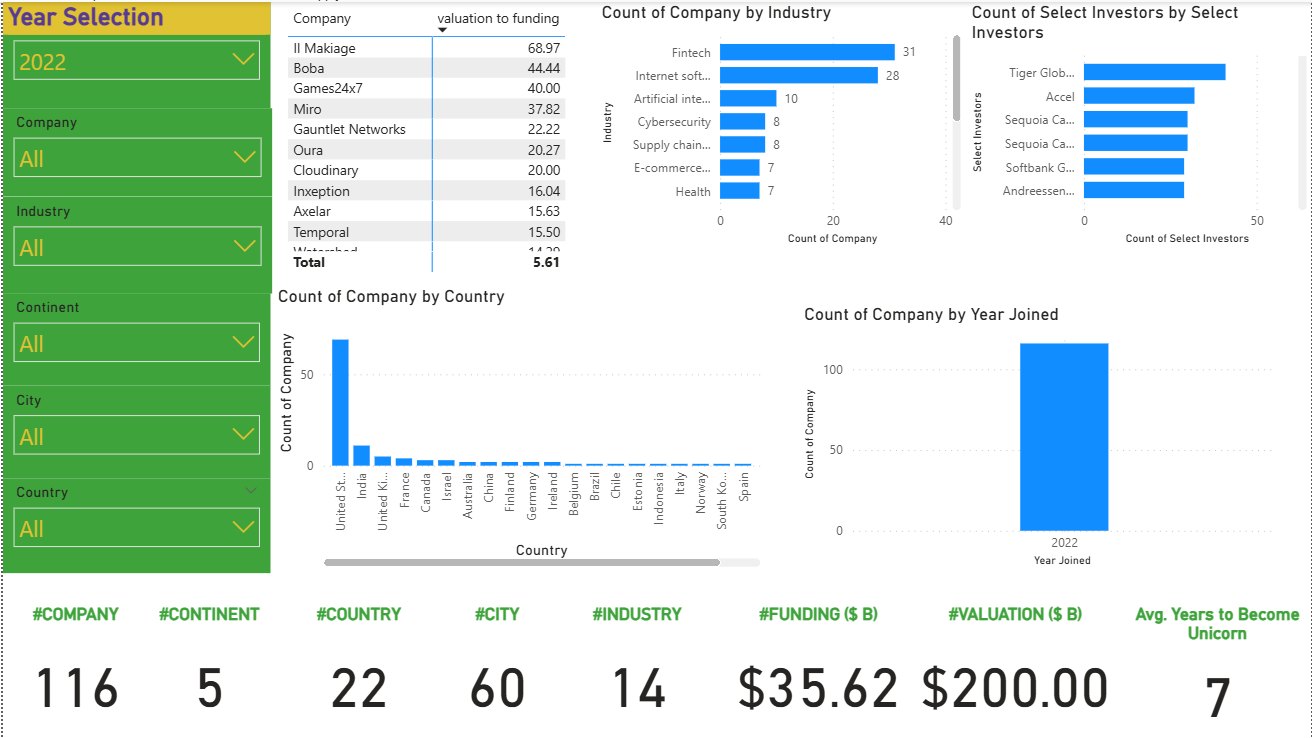

The page's visual inventory and layout, read from the dashboard file:
{"tool":"powerbi","page":{"name":"Page 1","canvas":[1280,720],"ordinal":0},"visuals":[{"type":"slicer","title":"Year Selection","fields":{"Values":["Unicorn_Companies.Year Joined"]},"box":[0,0,261.6,103.9],"z":0},{"type":"slicer","fields":{"Values":["Unicorn_Companies.Continent"]},"box":[0,284.8,261.6,90.5],"z":1000},{"type":"slicer","fields":{"Values":["Unicorn_Companies.Country"]},"box":[0,465.7,261.6,92.9],"z":2000},{"type":"slicer","fields":{"Values":["Unicorn_Companies.Company"]},"box":[0,103.9,262.8,86.8],"z":3000},{"type":"slicer","fields":{"Values":["Unicorn_Companies.Industry"]},"box":[0,190.7,262.8,94.1],"z":4000},{"type":"slicer","fields":{"Values":["Unicorn_Companies.City"]},"box":[0,375.3,261.6,90.5],"z":5000},{"type":"card","title":"Avg. Years to Become Unicorn","fields":{"Values":["Unicorn_Companies.avg years to become unicorn"]},"box":[1095,587.5,185,132.5],"z":6000},{"type":"pivotTable","fields":{"Rows":["Unicorn_Companies.Company"],"Values":["Unicorn_Companies.valuation to funding"]},"box":[273.8,0,346.2,268.8],"z":7000},{"type":"clusteredColumnChart","fields":{"Category":["Unicorn_Companies.Country"],"Y":["CountNonNull(Unicorn_Companies.Company)"]},"box":[264,277.5,481.6,279.9],"z":8000},{"type":"columnChart","fields":{"Category":["Unicorn_Companies.Year Joined"],"Y":["CountNonNull(Unicorn_Companies.Company)"]},"box":[778.8,295,467.5,262.5],"z":9000},{"type":"card","title":"#COMPANY","fields":{"Values":["Count(Unicorn_Companies.Company)"]},"box":[1.2,587.5,140,132.5],"z":10000},{"type":"card","title":"#CONTINENT","fields":{"Values":["Count(Unicorn_Companies.Continent)"]},"box":[131.2,587.5,142.5,132.5],"z":11000},{"type":"card","title":"#COUNTRY","fields":{"Values":["Count(Unicorn_Companies.Country)"]},"box":[273.8,587.5,148.8,132.5],"z":12000},{"type":"card","title":"#CITY","fields":{"Values":["Count(Unicorn_Companies.City)"]},"box":[422.5,587.5,121.2,132.5],"z":13000},{"type":"card","title":"#INDUSTRY","fields":{"Values":["Count(Unicorn_Companies.Industry)"]},"box":[532.5,587.5,175,132.5],"z":14000},{"type":"card","title":"#FUNDING ($ B)","fields":{"Values":["Sum(Unicorn_Companies.Funding($ B))"]},"box":[696.2,587.5,201.2,132.5],"z":15000},{"type":"card","title":"#VALUATION ($ B)","fields":{"Values":["Sum(Unicorn_Companies.Valuation($ B))"]},"box":[885,587.5,210,132.5],"z":16000},{"type":"barChart","fields":{"Category":["Unicorn_Companies.Industry"],"Y":["CountNonNull(Unicorn_Companies.Company)"]},"box":[581.2,0,361.2,242.5],"z":17000},{"type":"barChart","fields":{"Category":["Investor_Data.Select Investors"],"Y":["CountNonNull(Investor_Data.Select Investors)"]},"box":[942.5,0,337.5,242.5],"z":17001}]}

Visuals, with their boxes in screenshot pixels (x1, y1, x2, y2), scaled from the page's 1280x720 canvas onto the 1312x738 screenshot:
"Year Selection" slicer: bbox=[0, 0, 268, 106]
slicer - Unicorn_Companies.Continent: bbox=[0, 292, 268, 385]
slicer - Unicorn_Companies.Country: bbox=[0, 477, 268, 573]
slicer - Unicorn_Companies.Company: bbox=[0, 106, 269, 195]
slicer - Unicorn_Companies.Industry: bbox=[0, 195, 269, 292]
slicer - Unicorn_Companies.City: bbox=[0, 385, 268, 477]
"Avg. Years to Become Unicorn" card: bbox=[1122, 602, 1311, 737]
pivotTable - Unicorn_Companies.Company x Unicorn_Companies.valuation to funding: bbox=[281, 0, 636, 276]
clusteredColumnChart - Unicorn_Companies.Country x CountNonNull(Unicorn_Companies.Company): bbox=[271, 284, 764, 571]
columnChart - Unicorn_Companies.Year Joined x CountNonNull(Unicorn_Companies.Company): bbox=[798, 302, 1277, 571]
"#COMPANY" card: bbox=[1, 602, 145, 737]
"#CONTINENT" card: bbox=[134, 602, 281, 737]
"#COUNTRY" card: bbox=[281, 602, 433, 737]
"#CITY" card: bbox=[433, 602, 557, 737]
"#INDUSTRY" card: bbox=[546, 602, 725, 737]
"#FUNDING ($ B)" card: bbox=[714, 602, 920, 737]
"#VALUATION ($ B)" card: bbox=[907, 602, 1122, 737]
barChart - Unicorn_Companies.Industry x CountNonNull(Unicorn_Companies.Company): bbox=[596, 0, 966, 249]
barChart - Investor_Data.Select Investors x CountNonNull(Investor_Data.Select Investors): bbox=[966, 0, 1311, 249]
